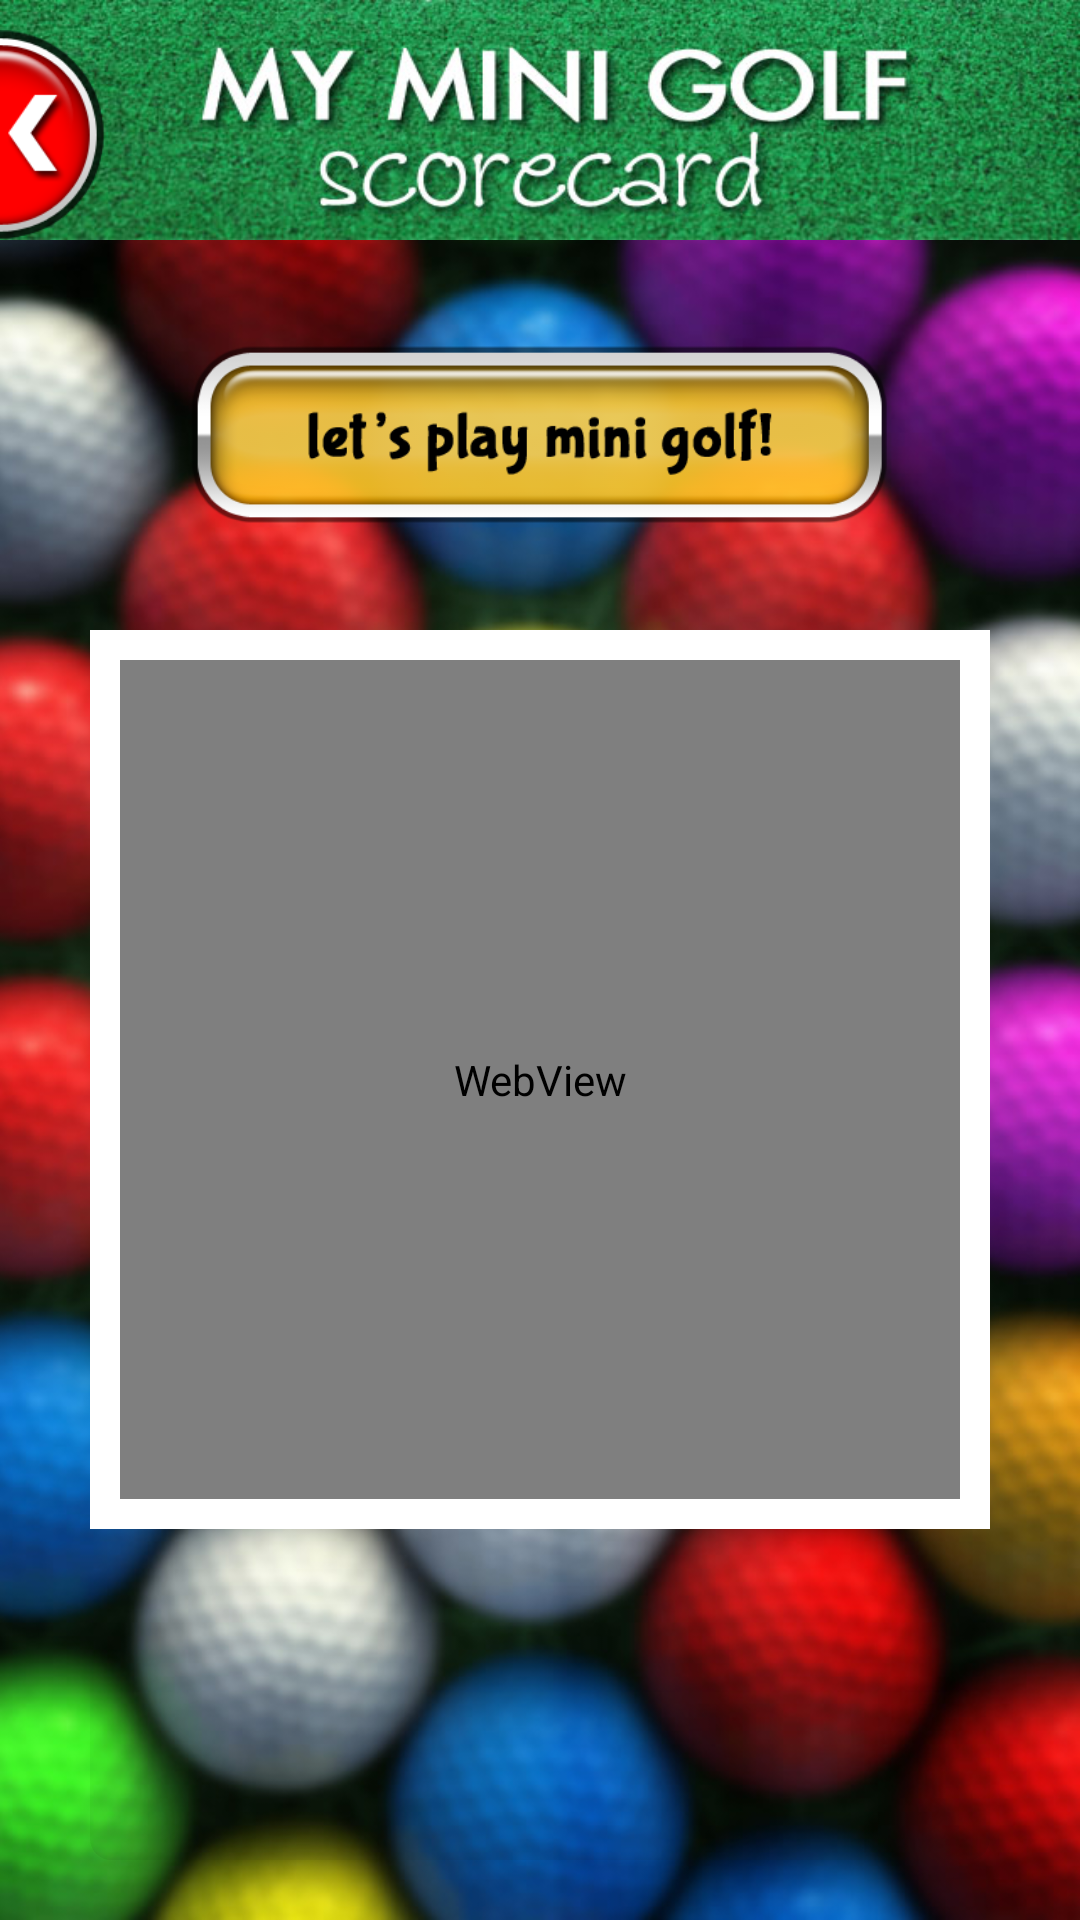

Icons on this 1080×1920 Android screen, each with the point to tap as (x,y):
back: (52,135)
